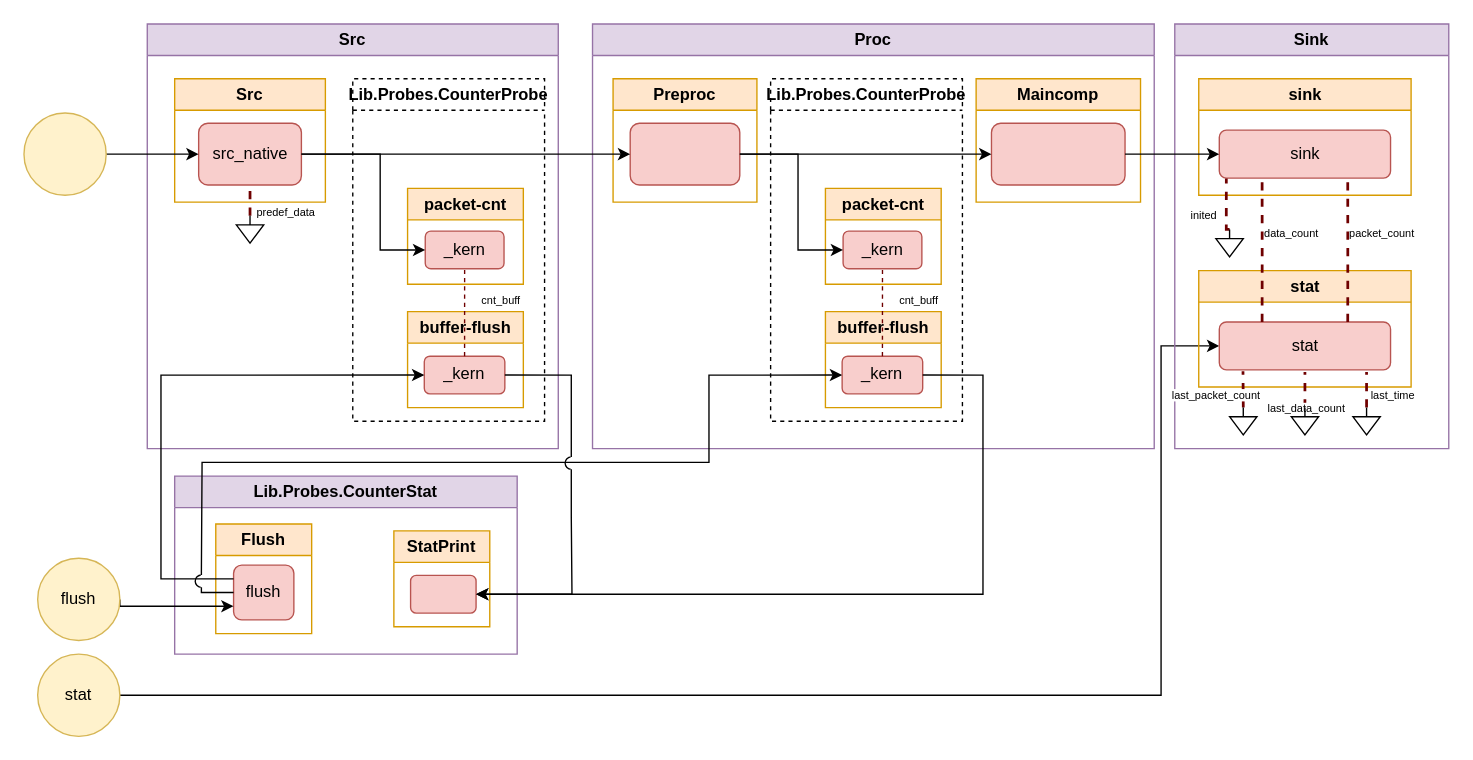
Some shapes in this 1473 by 760 pixel diagram are drawn without their labels. Each missing label, with the centre of its shape:
maincomp_native: pixel 1057 153
preproc_native: pixel 684 153
stats: pixel 442 593
trig: pixel 64 153
